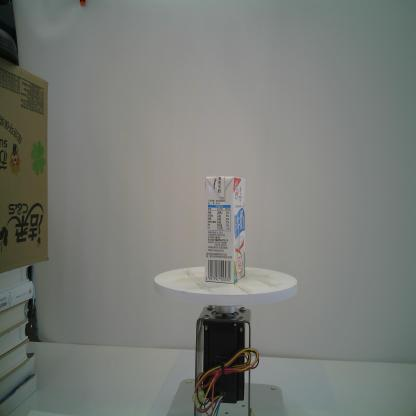Milk: (203, 174, 246, 284)
